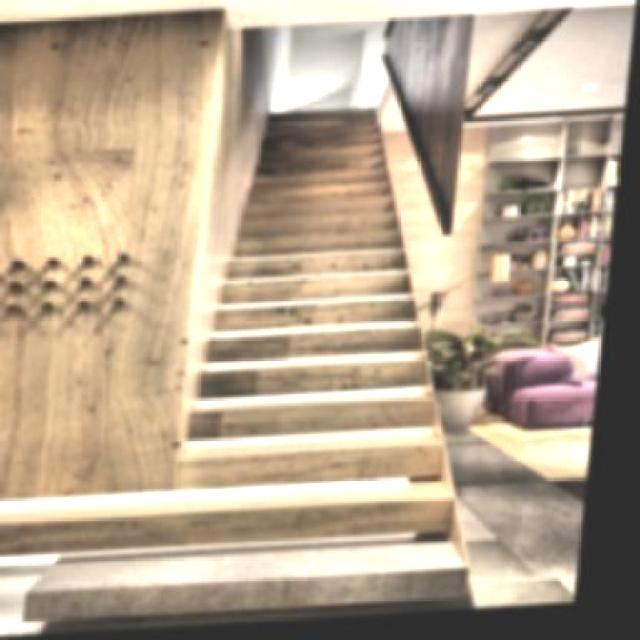stair: (57, 94, 526, 612)
